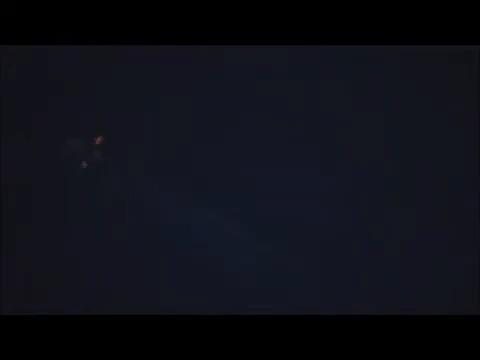Plane: (40, 124, 132, 181)
